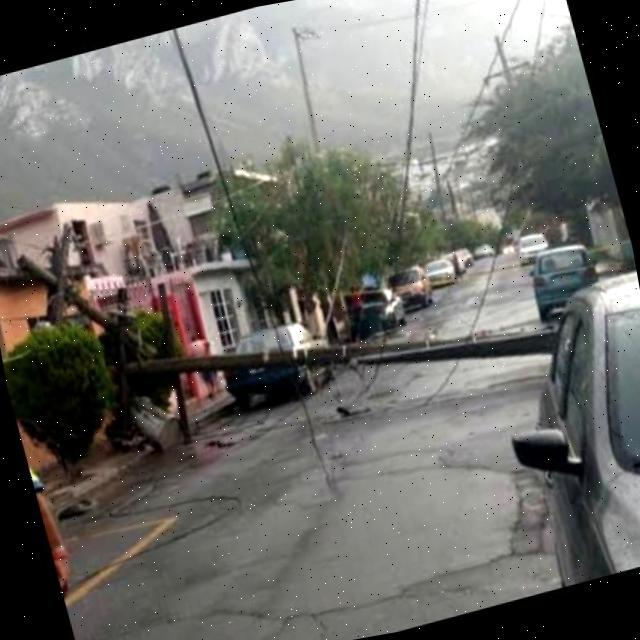Broken Pole: (81, 281, 564, 452), (24, 214, 105, 335)
